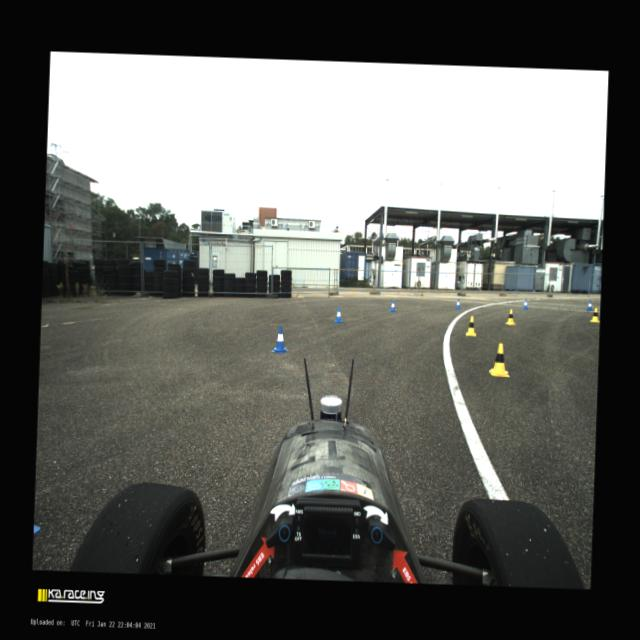blue_cone: (272, 325, 288, 353), (333, 306, 342, 322), (388, 300, 396, 312), (454, 298, 460, 309), (522, 298, 528, 309), (586, 300, 592, 310)
yellow_cone: (488, 343, 510, 377), (465, 316, 477, 336), (504, 308, 516, 324), (590, 307, 600, 322)
